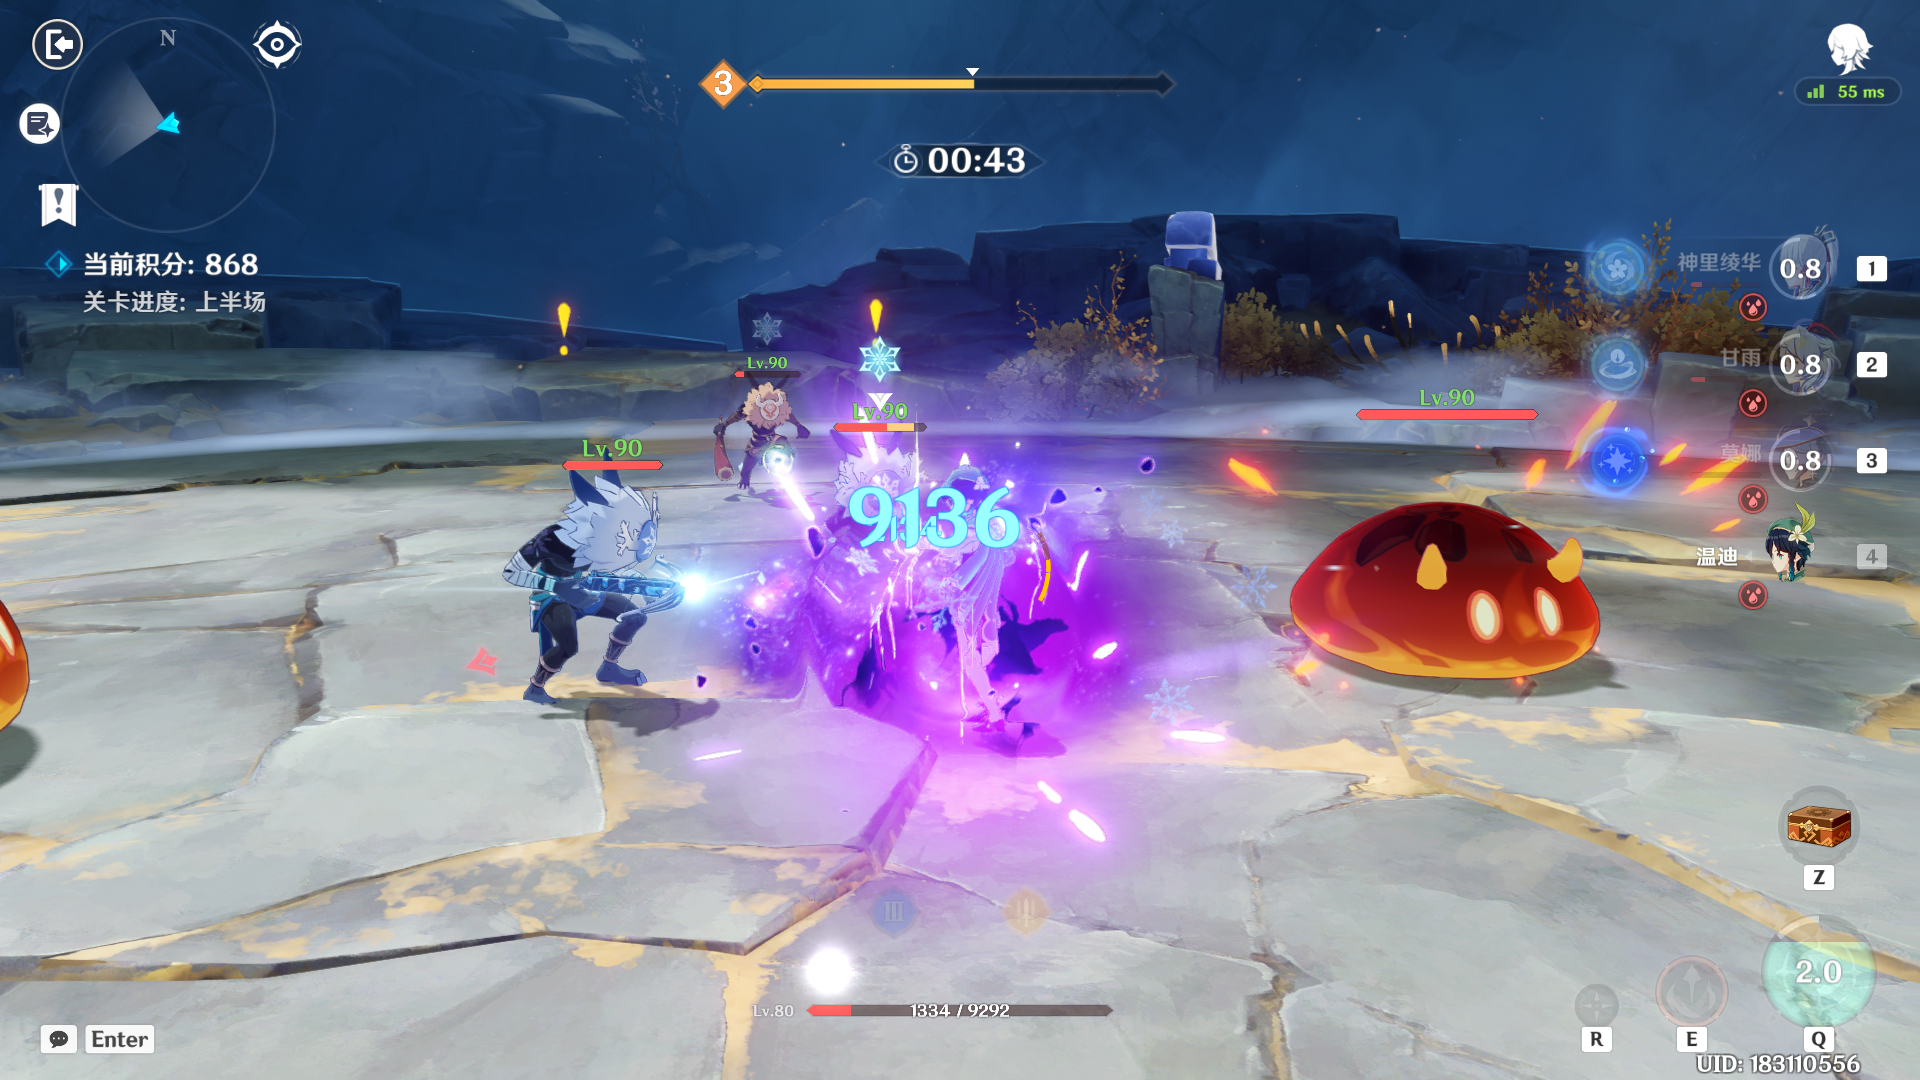hili: (487, 442, 705, 727), (691, 359, 827, 516)
slime: (1275, 454, 1625, 745)
